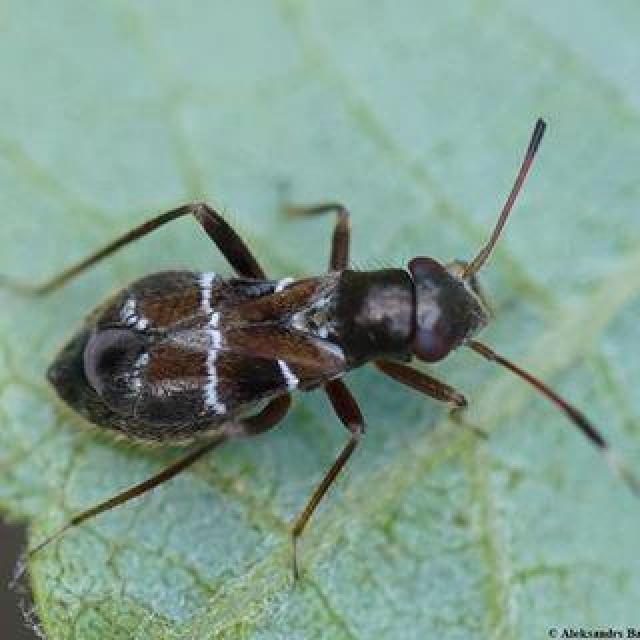Miridae-Adult-: (36, 108, 613, 540)
